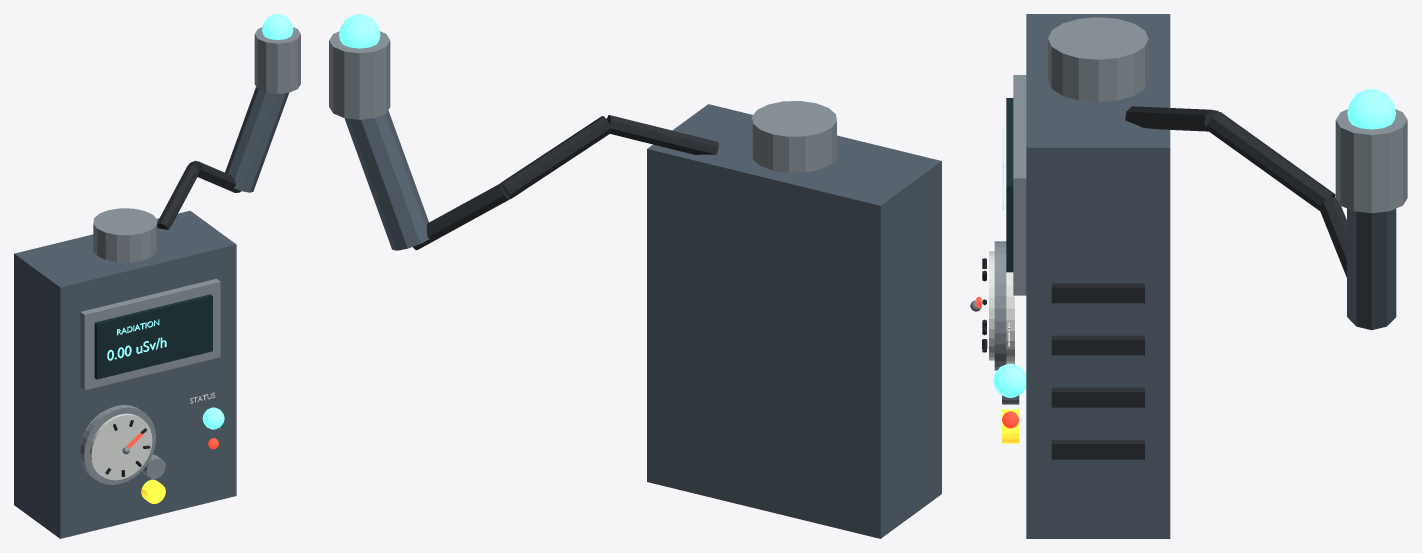
Rendered from Geiger_Counter.glb.
3 views of the same model, side by side, from view 1: azimuth 30°, elevation 25°; view 2: azimuth 150°, elevation 25°; view 3: azimuth 270°, elevation 25° (orthographic). The views are drawn at different scales.
Parts seen in each view (by area): view 1: GeigerCounter_Body, Display_Screen, Display_Bezel, Probe_Handle, Probe_Connector, Analog_Dial_Inner, Probe_Head, Analog_Dial_Bezel, Probe_Cable_1, Probe_Tip, Probe_Cable_3, Control_Button_1 (+3 smaller); view 2: GeigerCounter_Body, Probe_Handle, Probe_Connector, Probe_Head, Probe_Cable_2, Probe_Cable_1, Probe_Cable_3, Probe_Tip; view 3: GeigerCounter_Body, Probe_Connector, Probe_Head, Probe_Handle, Probe_Cable_2, Display_Bezel, Side_Grip_11, Side_Grip_19, Side_Grip_15, Side_Grip_7, Probe_Cable_1, Analog_Dial_Bezel (+6 smaller).
Boxes of the visible parts, left/top/right/bottom form: GeigerCounter_Body: left=14, top=210, right=236, bottom=538; Display_Screen: left=94, top=294, right=212, bottom=379; Display_Bezel: left=80, top=278, right=220, bottom=390; Probe_Handle: left=225, top=87, right=288, bottom=192; Probe_Connector: left=93, top=208, right=157, bottom=262; Analog_Dial_Inner: left=89, top=413, right=152, bottom=480; Probe_Head: left=254, top=27, right=300, bottom=93; Analog_Dial_Bezel: left=80, top=405, right=156, bottom=484; Probe_Cable_1: left=157, top=166, right=199, bottom=229; Probe_Tip: left=262, top=14, right=293, bottom=39; Probe_Cable_3: left=197, top=161, right=240, bottom=192; Control_Button_1: left=141, top=479, right=165, bottom=503; GeigerCounter_Body: left=647, top=104, right=941, bottom=538; Probe_Handle: left=344, top=110, right=429, bottom=250; Probe_Connector: left=752, top=101, right=836, bottom=172; Probe_Head: left=329, top=31, right=390, bottom=119; Probe_Cable_2: left=500, top=116, right=610, bottom=198; Probe_Cable_1: left=607, top=115, right=718, bottom=154; Probe_Cable_3: left=413, top=183, right=509, bottom=250; Probe_Tip: left=339, top=14, right=380, bottom=48; GeigerCounter_Body: left=1026, top=14, right=1170, bottom=538; Probe_Connector: left=1048, top=17, right=1148, bottom=101; Probe_Head: left=1335, top=109, right=1407, bottom=213; Probe_Handle: left=1347, top=208, right=1396, bottom=330; Probe_Cable_2: left=1206, top=112, right=1335, bottom=210; Display_Bezel: left=1013, top=75, right=1026, bottom=295; Side_Grip_11: left=1051, top=387, right=1144, bottom=407; Side_Grip_19: left=1051, top=283, right=1144, bottom=303; Side_Grip_15: left=1051, top=335, right=1144, bottom=355; Side_Grip_7: left=1051, top=440, right=1144, bottom=459; Probe_Cable_1: left=1125, top=106, right=1218, bottom=131; Analog_Dial_Bezel: left=994, top=241, right=1006, bottom=370.
Bounding box in the file's own units: 0.435 × 0.432 × 0.304.
